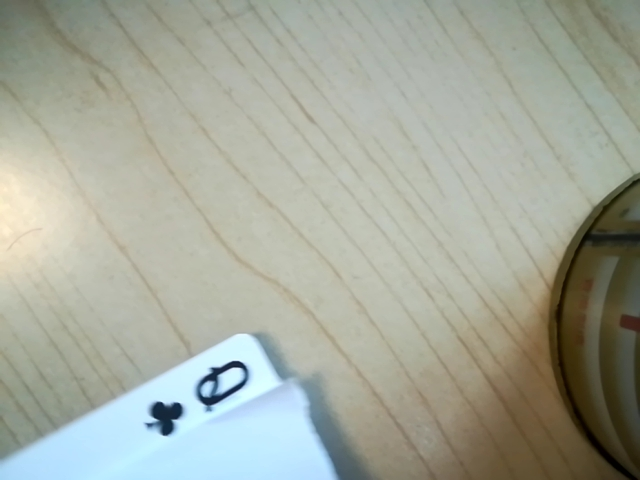mh q: (136, 351, 271, 435)
